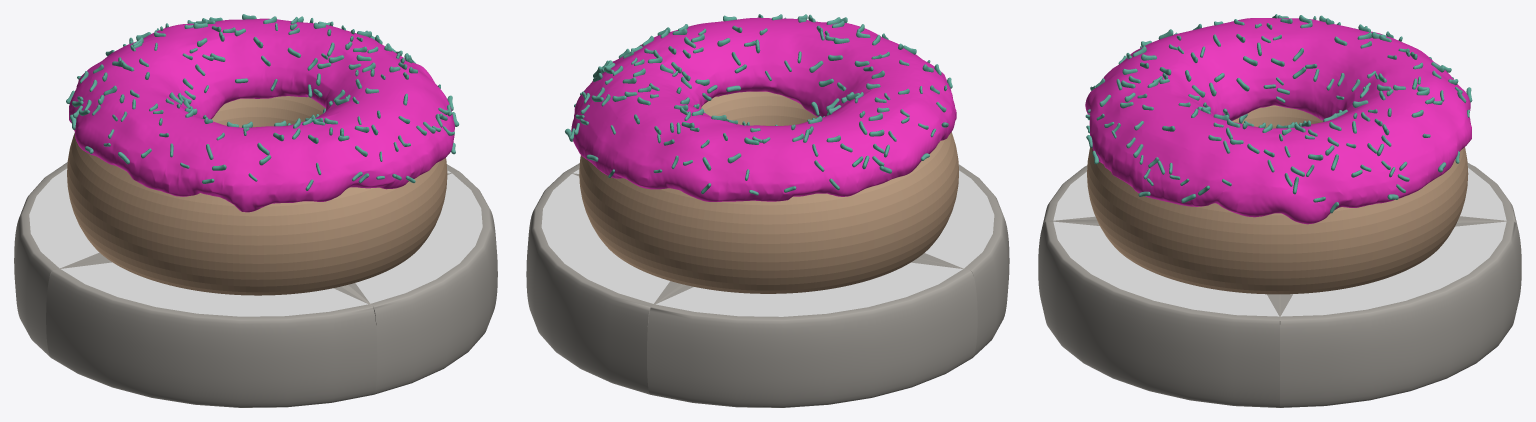
Rendered from Donut.fbx.
3 views of the same model, side by side, from view 1: azimuth 30°, elevation 25°; view 2: azimuth 150°, elevation 25°; view 3: azimuth 270°, elevation 25° (orthographic).
Visible parts, largest first — view 1: Donut, 4 estrellas; view 2: Donut, 4 estrellas; view 3: Donut, 4 estrellas.
Part boxes in pixels (x1,y1,x2,y2): Donut: (66,14,459,295); 4 estrellas: (14,162,497,407); Donut: (565,14,958,293); 4 estrellas: (526,163,1009,407); Donut: (1085,14,1472,294); 4 estrellas: (1038,163,1521,407).
Size of the model in its own units: 25 by 13.4 by 25.
